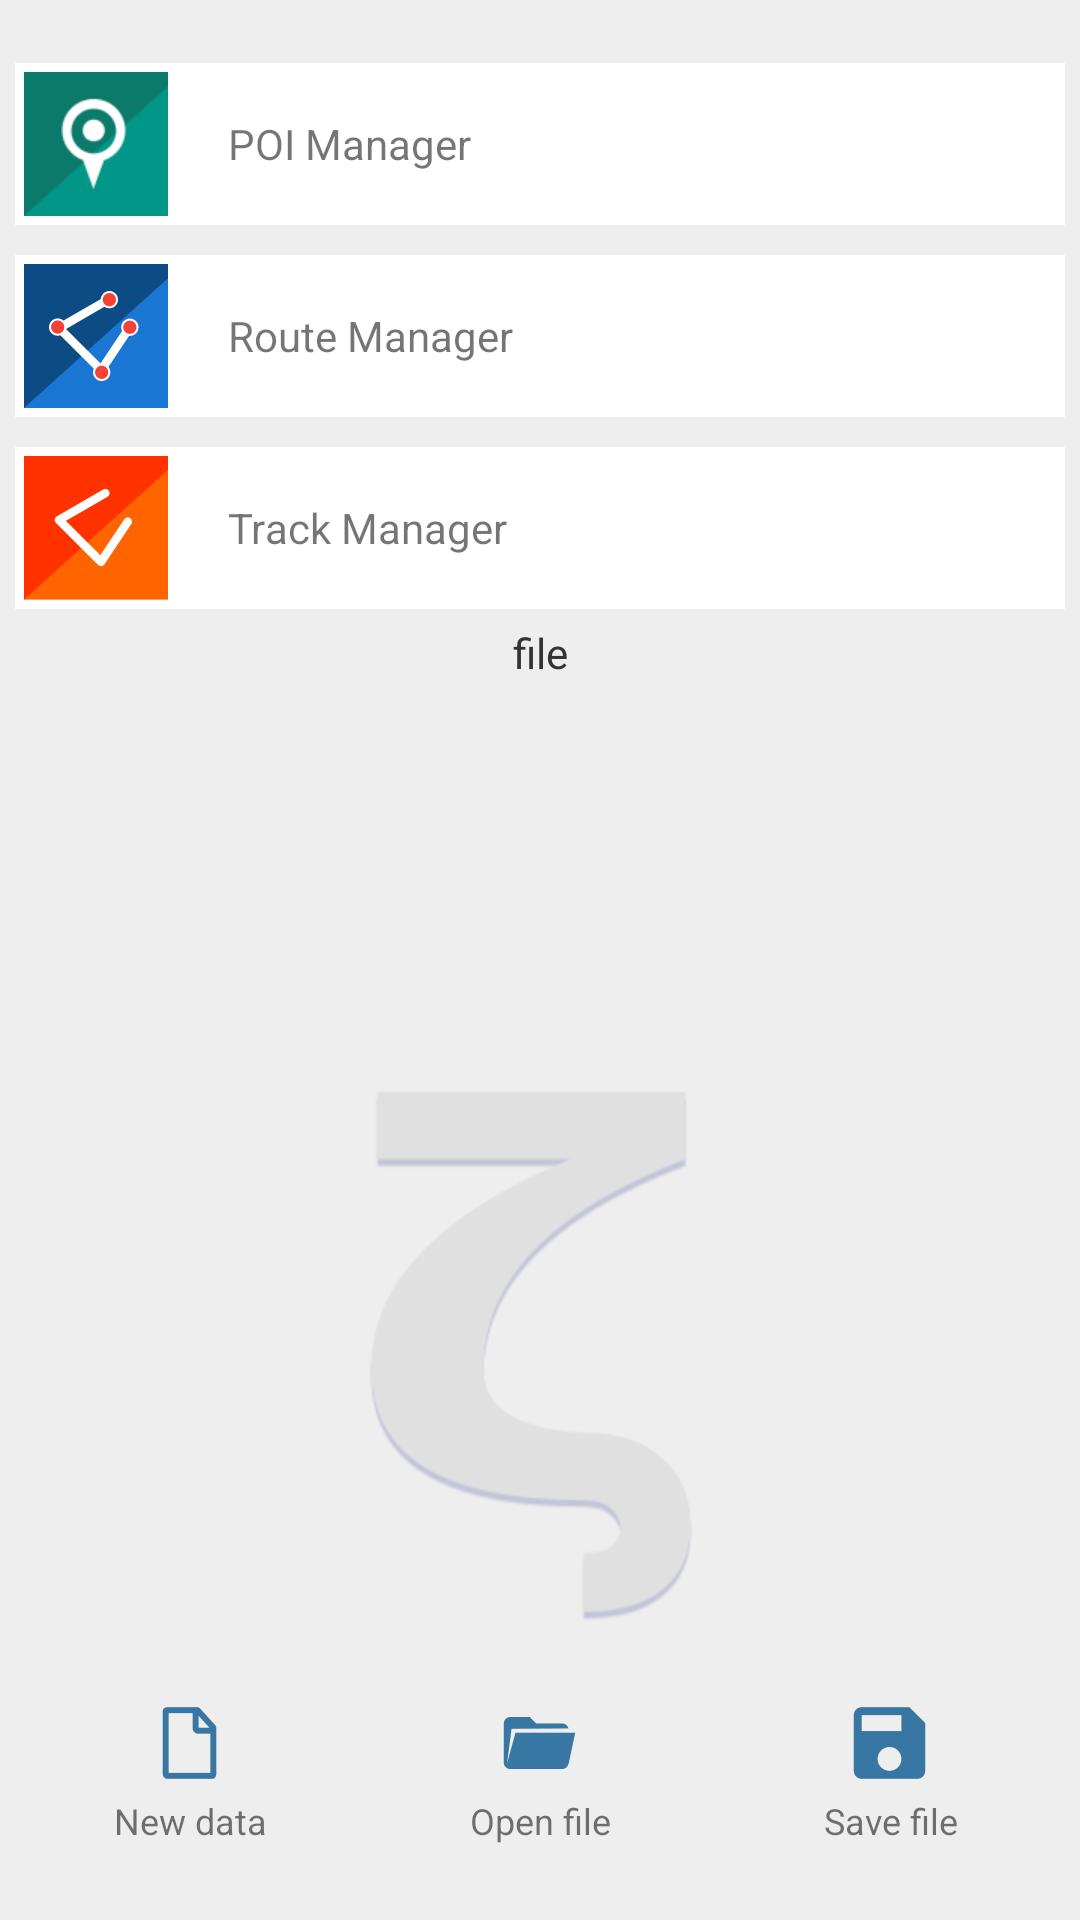

Icon click points for this 1080 x 1920 phone screenshot, format [x,y]:
routes: [96,336]
tracks: [96,528]
